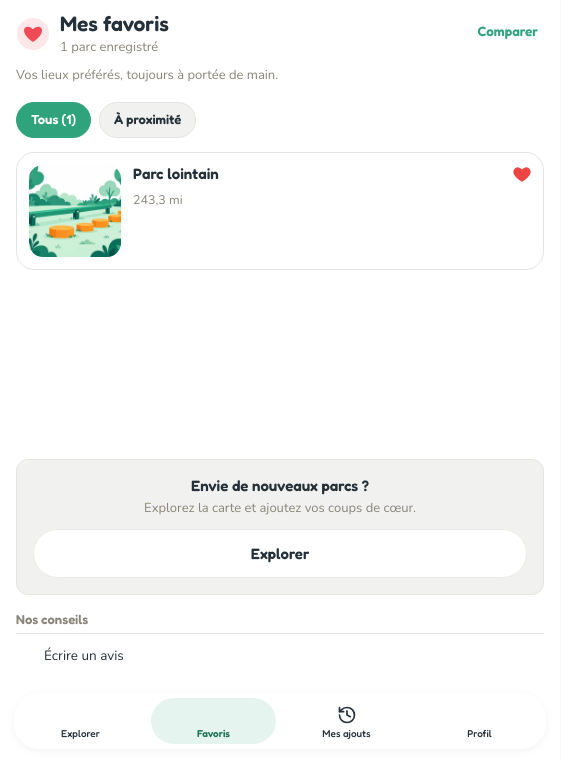
it: Favorites — filters › once a real position is known, a filter with no real match falls back to the generic 'no match' state
The image size is (561, 759).
Expected: the text "Parc lointain" is shown, [133,164,219,183]
What coordinates should you click on to do the following:
click the button "À proximité"
I would click on:
 (148, 120)
Its box is [99,102,196,138].
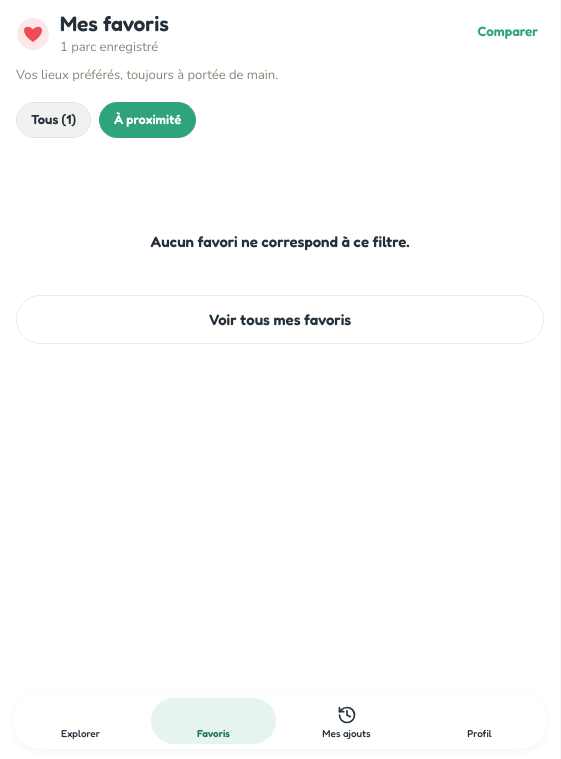
Expected: the text "Aucun favori ne correspond à ce filtre." is shown, [150,232,410,251]
